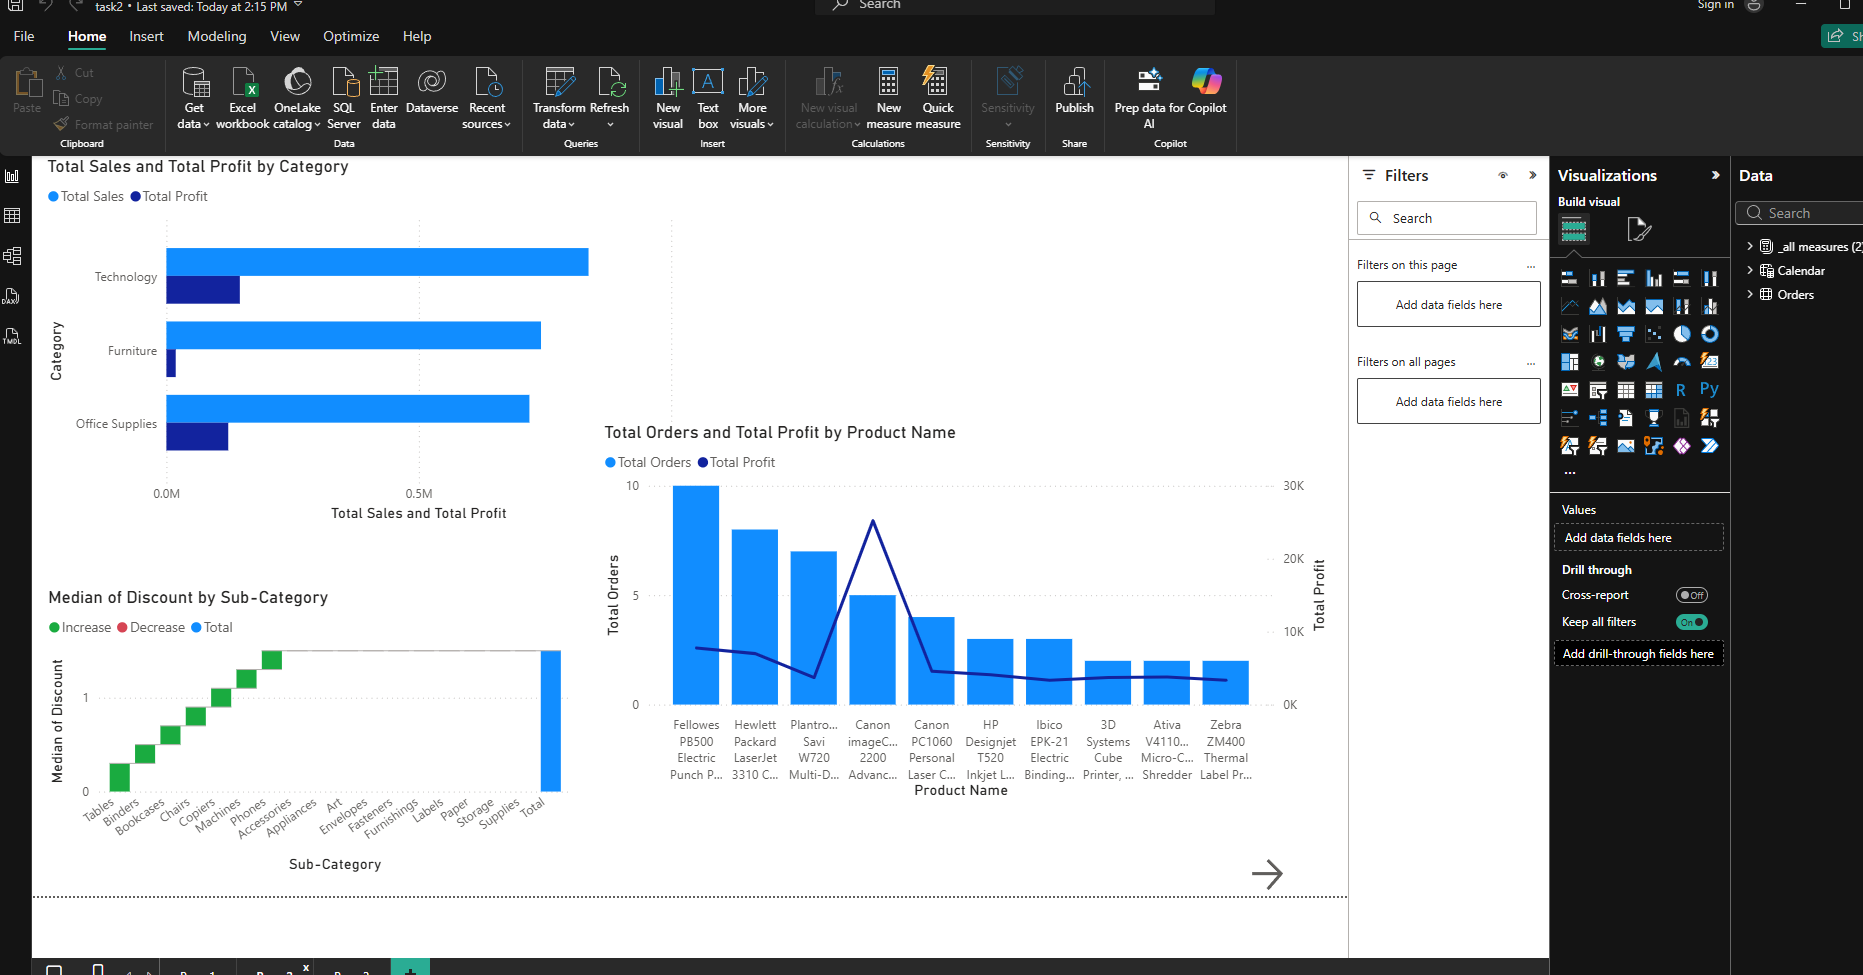

The page's visual inventory and layout, read from the dashboard file:
{"tool":"powerbi","page":{"name":"Page 2","canvas":[1280,720],"ordinal":1},"visuals":[{"type":"clusteredBarChart","fields":{"Category":["Orders.Category"],"Y":["_all measures (2).Total Sales","_all measures (2).Total Profit"]},"box":[10,0,631,360.3],"z":0},{"type":"waterfallChart","fields":{"Category":["Orders.Sub-Category"],"Y":["Median(Orders.Discount)"]},"box":[10.4,418.8,518.8,282.3],"z":1000},{"type":"lineStackedColumnComboChart","fields":{"Category":["Orders.Product Name"],"Y":["_all measures (2).Total Orders"],"Y2":["_all measures (2).Total Profit"]},"box":[551,258.3,711.7,371.2],"z":1001},{"type":"actionButton","box":[1180.5,679.2,99.5,40.2],"z":1002}]}

Visuals, with their boxes on the page's 1280x720 design canvas (x1, y1, x2, y2). These are canvas units, not pixel positions in the 1863x975 screenshot, which may show the page scaled, cropped or inside an application window:
clusteredBarChart - Orders.Category x _all measures (2).Total Sales: 10,0,641,360
waterfallChart - Orders.Sub-Category x Median(Orders.Discount): 10,419,529,701
lineStackedColumnComboChart - Orders.Product Name x _all measures (2).Total Orders: 551,258,1263,630
actionButton: 1180,679,1280,719
